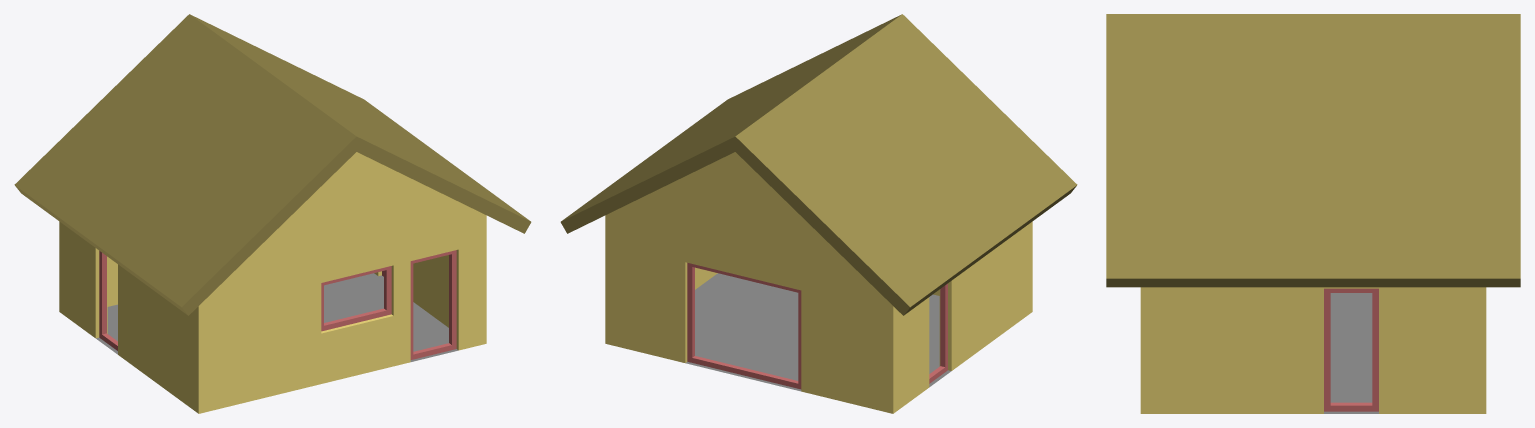
File: result.glb
3 views of the same model, side by side, from view 1: azimuth 30°, elevation 25°; view 2: azimuth 150°, elevation 25°; view 3: azimuth 270°, elevation 25° (orthographic). The views are drawn at different scales.
Parts seen in each view (by area): view 1: d2bea1e2-2f3f-4fe0-b6ff-1a28a048f3c3__undefined (×2), 8b56284a-5f90-4d7e-87fe-d34d9c73e3a9__undefined, 4c1ef1a9-1a41-451c-850a-af11cd238a6e__Plane_6, 30d68eac-afa2-4b1f-abd8-9f045a96e381__Box, 209a7b11-8ea8-4988-97c6-907d4da7acfd__Box_3, a22593e6-2ddd-48b1-8725-0cd865c2d71e__Box_12; view 2: d2bea1e2-2f3f-4fe0-b6ff-1a28a048f3c3__undefined (×2), 8b56284a-5f90-4d7e-87fe-d34d9c73e3a9__undefined, 4c1ef1a9-1a41-451c-850a-af11cd238a6e__Plane_6, 0f2e1124-d453-44aa-9819-5eeea76d9ce1__Box_9, a22593e6-2ddd-48b1-8725-0cd865c2d71e__Box_12; view 3: d2bea1e2-2f3f-4fe0-b6ff-1a28a048f3c3__undefined, 8b56284a-5f90-4d7e-87fe-d34d9c73e3a9__undefined, 4c1ef1a9-1a41-451c-850a-af11cd238a6e__Plane_6, e2b4a305-f523-4a98-8543-b2922d4d0740__Box_15.
Boxes of the visible parts, x1=… form: d2bea1e2-2f3f-4fe0-b6ff-1a28a048f3c3__undefined (×2): x1=14, y1=14, x2=531, y2=315; 8b56284a-5f90-4d7e-87fe-d34d9c73e3a9__undefined: x1=59, y1=152, x2=486, y2=413; 4c1ef1a9-1a41-451c-850a-af11cd238a6e__Plane_6: x1=96, y1=273, x2=458, y2=361; 30d68eac-afa2-4b1f-abd8-9f045a96e381__Box: x1=410, y1=250, x2=456, y2=359; 209a7b11-8ea8-4988-97c6-907d4da7acfd__Box_3: x1=321, y1=266, x2=391, y2=331; a22593e6-2ddd-48b1-8725-0cd865c2d71e__Box_12: x1=99, y1=251, x2=117, y2=350; d2bea1e2-2f3f-4fe0-b6ff-1a28a048f3c3__undefined (×2): x1=560, y1=14, x2=1077, y2=315; 8b56284a-5f90-4d7e-87fe-d34d9c73e3a9__undefined: x1=605, y1=152, x2=1032, y2=413; 4c1ef1a9-1a41-451c-850a-af11cd238a6e__Plane_6: x1=685, y1=273, x2=951, y2=391; 0f2e1124-d453-44aa-9819-5eeea76d9ce1__Box_9: x1=687, y1=262, x2=801, y2=389; a22593e6-2ddd-48b1-8725-0cd865c2d71e__Box_12: x1=929, y1=283, x2=947, y2=383; d2bea1e2-2f3f-4fe0-b6ff-1a28a048f3c3__undefined: x1=1106, y1=14, x2=1520, y2=287; 8b56284a-5f90-4d7e-87fe-d34d9c73e3a9__undefined: x1=1140, y1=287, x2=1486, y2=413; 4c1ef1a9-1a41-451c-850a-af11cd238a6e__Plane_6: x1=1324, y1=293, x2=1378, y2=413; e2b4a305-f523-4a98-8543-b2922d4d0740__Box_15: x1=1324, y1=288, x2=1378, y2=411.
Size of the model in its own units: 725 by 500 by 600.
